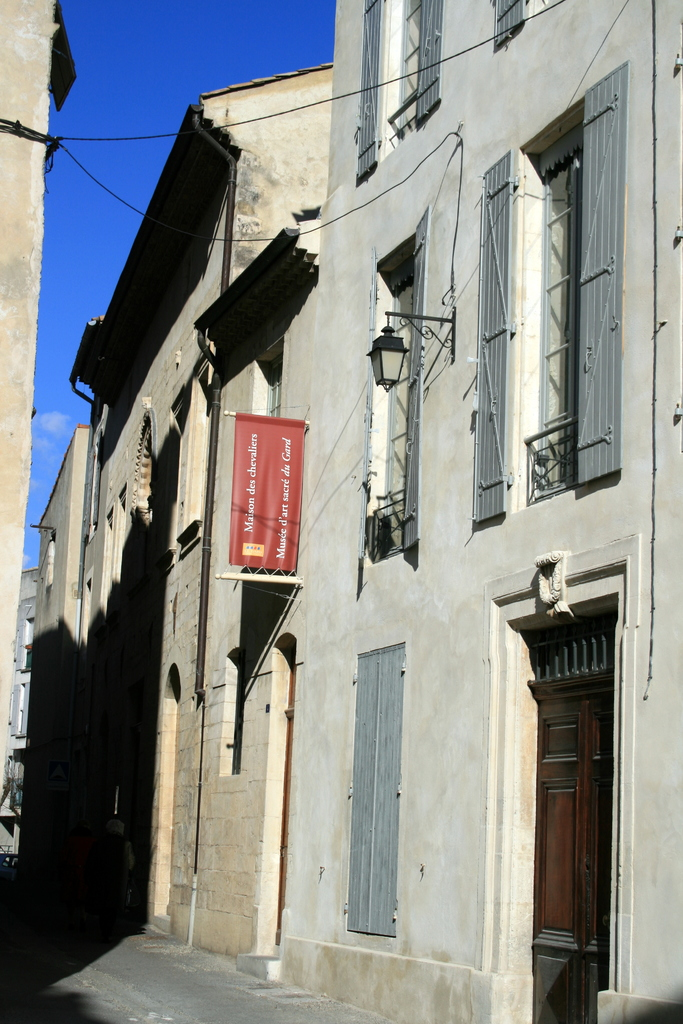door: (542, 708, 581, 1013), (582, 732, 610, 1006), (275, 674, 291, 944)
